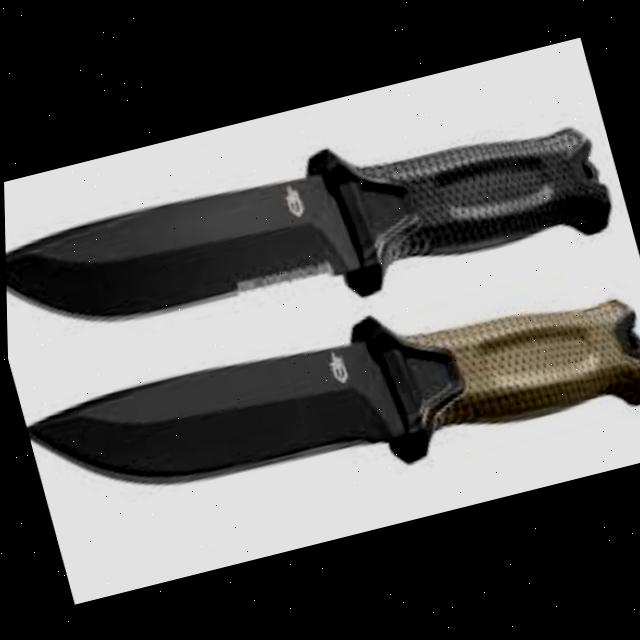Knife: (15, 248, 640, 548), (1, 82, 619, 380)
